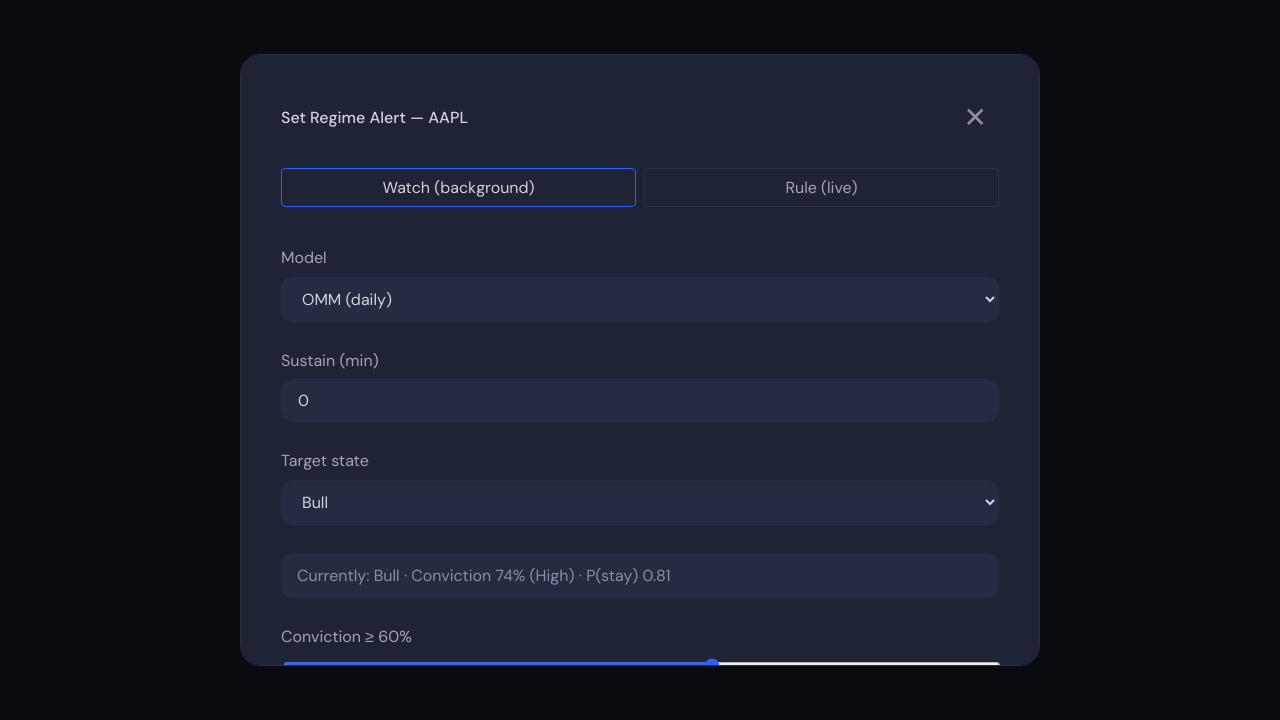
CompositeAlertDialog — live regime snapshot › skips the snapshot fetch and hides the snapshot box when the model is switched to "any"
The width and height of the screenshot is (1280, 720).
Select "Any model" in the dropdown showing "OMM (daily)" below "Model" at (640, 299), box [281,277,999,322]
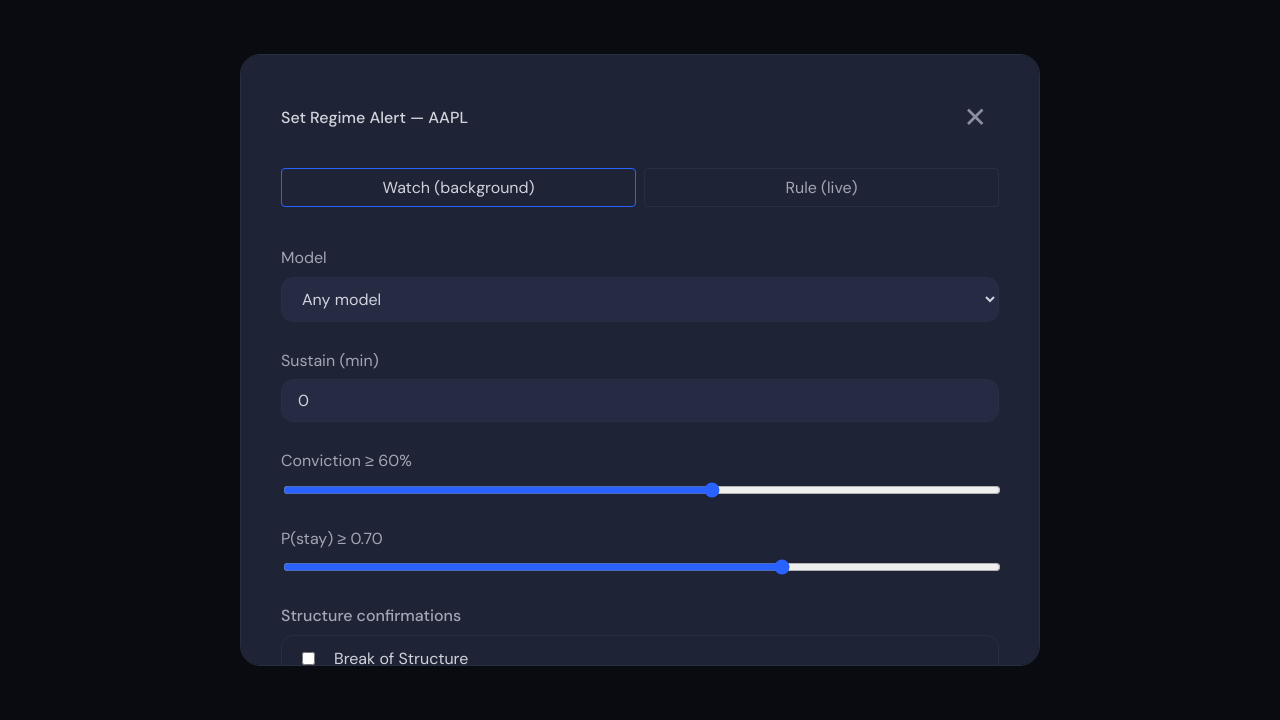
Now the text "Currently:" is gone
